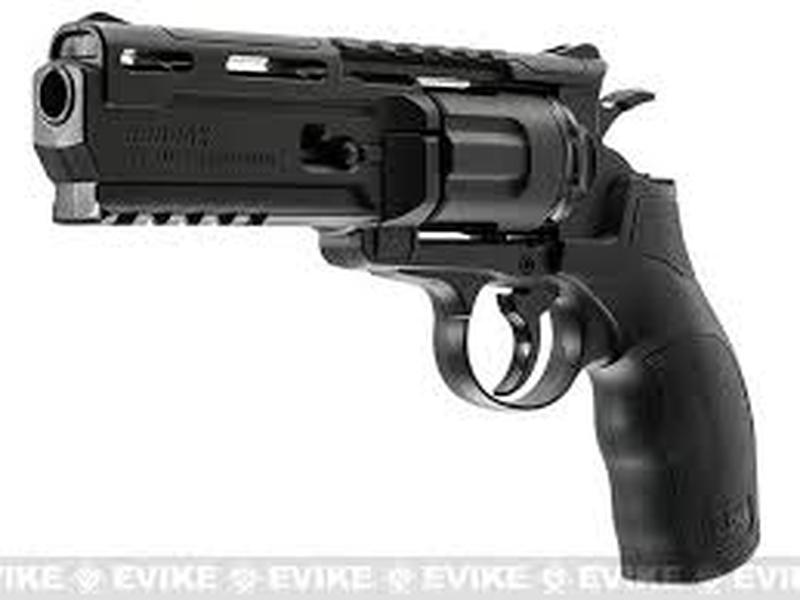gun: (29, 11, 765, 584)
